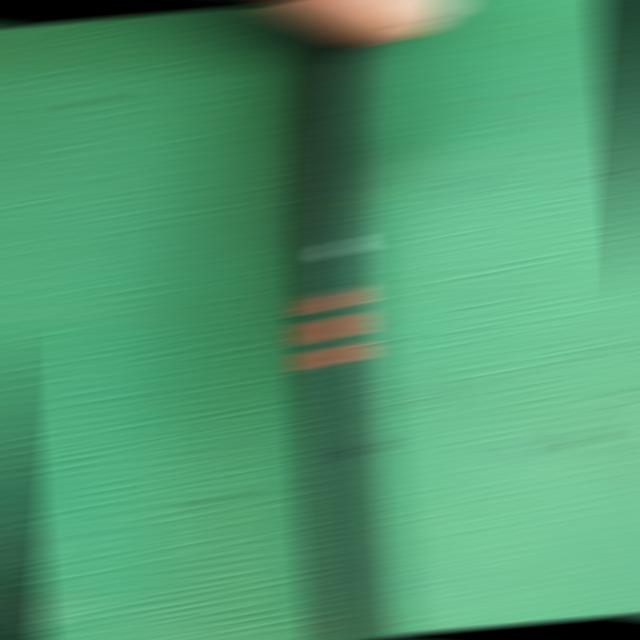red: (297, 288, 366, 366)
